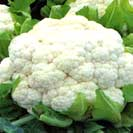cauliflower: (0, 14, 132, 114)
